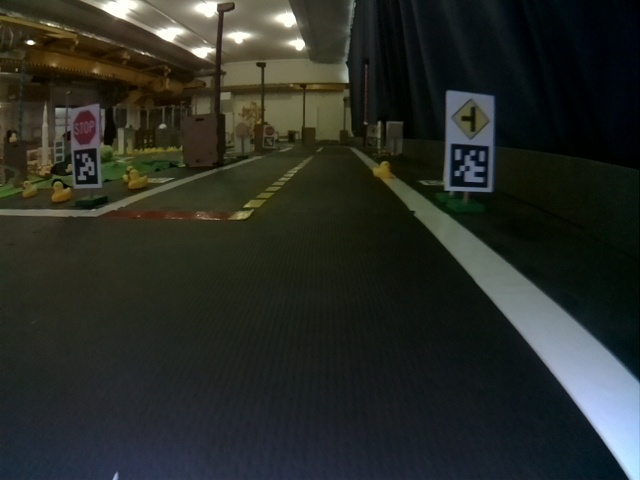Duckie: (52, 181, 71, 202), (128, 170, 149, 189), (373, 162, 391, 177), (22, 181, 38, 196), (10, 133, 18, 142)
Intersection sign: (451, 98, 489, 140)
QR code: (451, 144, 491, 188), (73, 148, 99, 185), (420, 177, 443, 186), (264, 137, 273, 147)
Stop sign: (72, 110, 98, 143), (265, 126, 274, 135)
